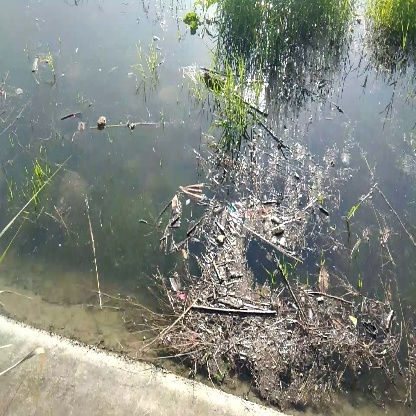branch: (188, 295, 278, 326)
